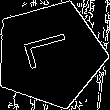L_E: (20, 32, 80, 76)
